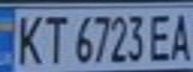2: (109, 11, 130, 63)
3: (127, 11, 151, 63)
6: (69, 11, 97, 64)
7: (90, 11, 112, 64)
A: (166, 9, 193, 62)
E: (148, 10, 175, 63)
K: (12, 10, 45, 66)
T: (39, 11, 69, 65)
